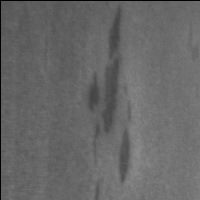inclusion: (86, 3, 125, 166), (113, 97, 136, 186), (83, 68, 104, 115), (177, 22, 199, 62), (90, 177, 102, 200)
